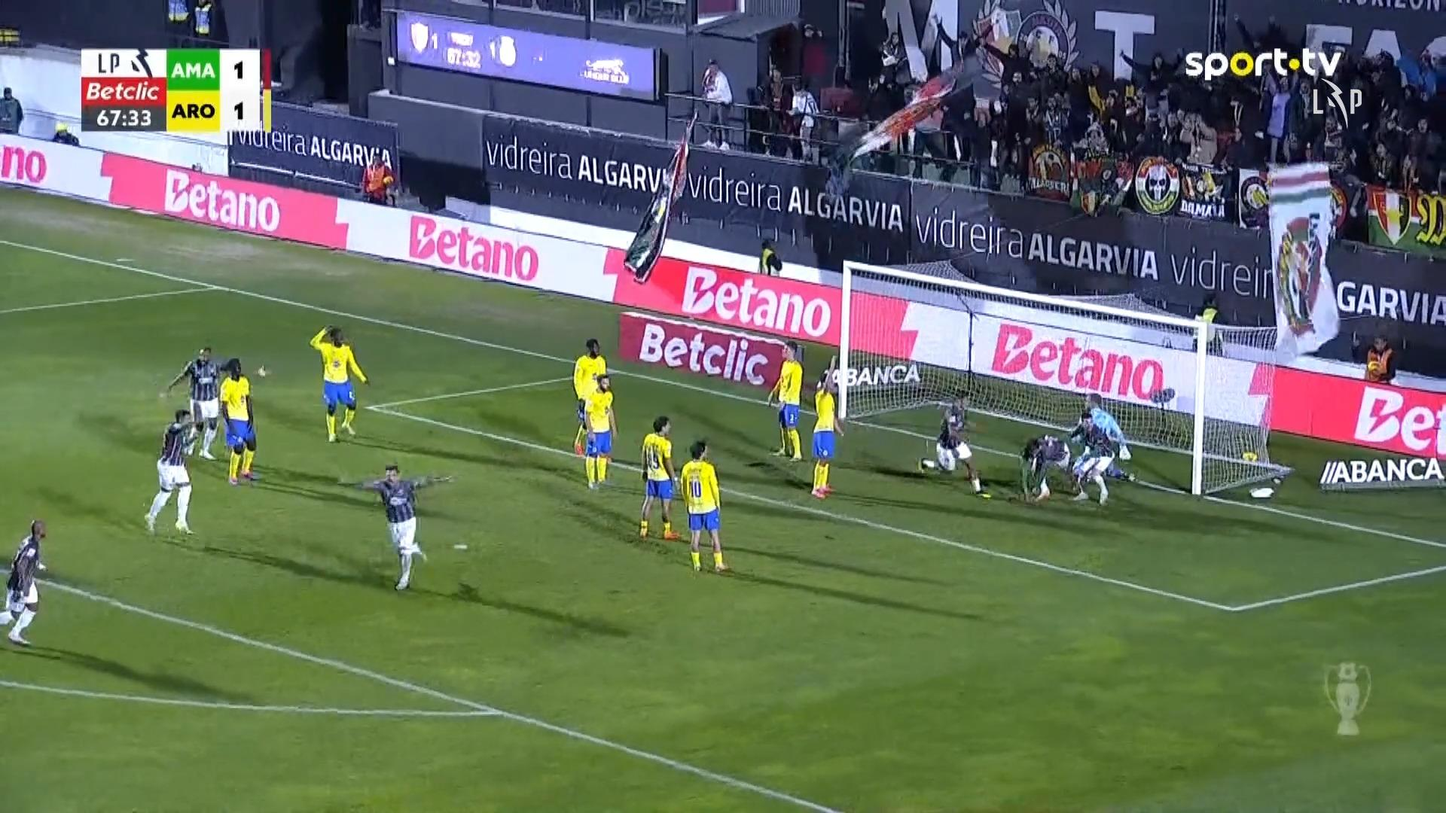ball: (1242, 450, 1257, 461)
goalkeeper: (1074, 389, 1138, 481)
player: (335, 461, 454, 591), (916, 392, 991, 498), (142, 407, 200, 535), (308, 323, 369, 443), (159, 346, 223, 460), (679, 439, 731, 573), (3, 518, 47, 645), (217, 357, 259, 485), (638, 415, 681, 540), (808, 370, 845, 498), (765, 340, 804, 461), (578, 372, 618, 489), (1068, 413, 1116, 506), (572, 337, 608, 455), (1017, 433, 1073, 503)
